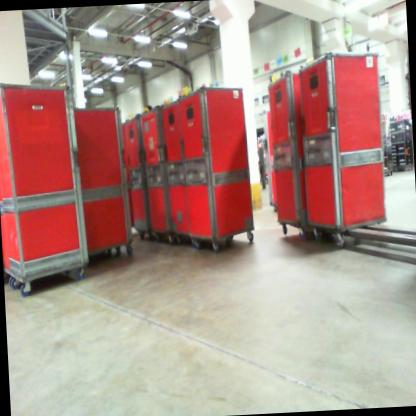pallet_truck: (338, 211, 416, 270)
